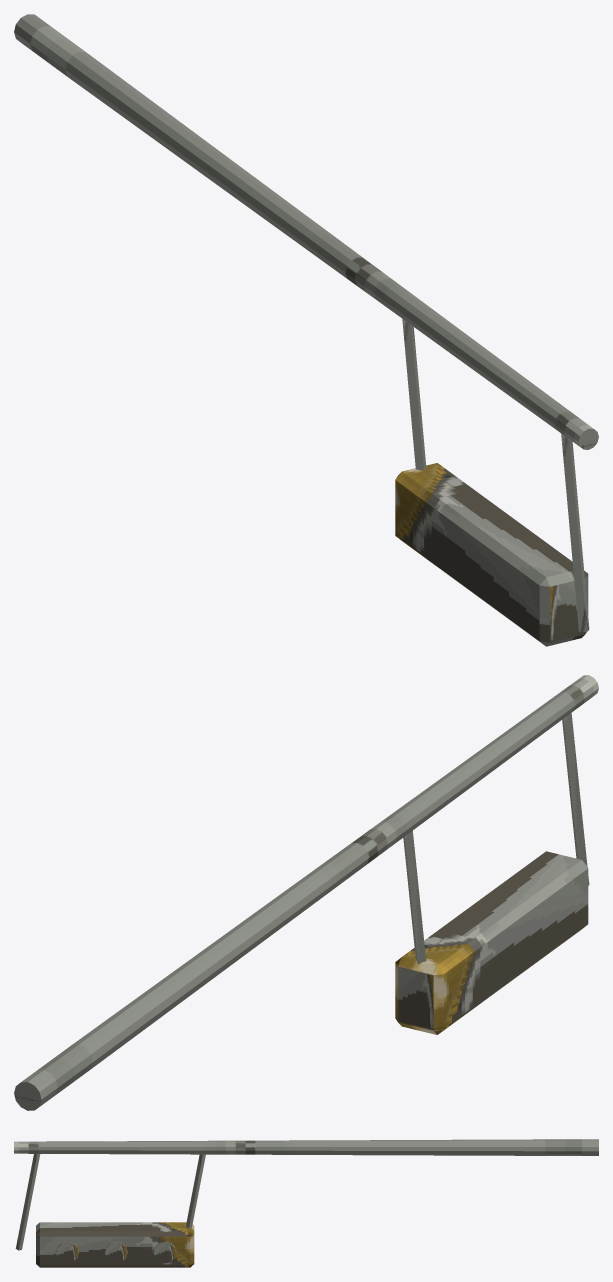
Rendered from pz_street_pole_13.obj.
3 views of the same model, one above another, from view 1: azimuth 30°, elevation 25°; view 2: azimuth 150°, elevation 25°; view 3: azimuth 270°, elevation 25° (orthographic). The views are drawn at different scales.
Parts seen in each view (by area): view 1: pz_street_pole_13_|_tapered_native_street_pole, pz_street_pole_13_|_native_traffic_signal_housing, pz_street_pole_13_|_traffic_light_support_arm.001, pz_street_pole_13_|_traffic_light_support_arm; view 2: pz_street_pole_13_|_tapered_native_street_pole, pz_street_pole_13_|_native_traffic_signal_housing, pz_street_pole_13_|_traffic_light_support_arm.001, pz_street_pole_13_|_traffic_light_support_arm; view 3: pz_street_pole_13_|_tapered_native_street_pole, pz_street_pole_13_|_native_traffic_signal_housing, pz_street_pole_13_|_traffic_light_support_arm.001, pz_street_pole_13_|_traffic_light_support_arm, pz_street_pole_13_|_signal_light_lens.002, pz_street_pole_13_|_signal_light_lens, pz_street_pole_13_|_signal_light_lens.001.
Boxes of the visible parts, bbox=[...] form: pz_street_pole_13_|_tapered_native_street_pole: bbox=[14, 14, 598, 449]; pz_street_pole_13_|_native_traffic_signal_housing: bbox=[395, 463, 588, 646]; pz_street_pole_13_|_traffic_light_support_arm.001: bbox=[561, 433, 589, 631]; pz_street_pole_13_|_traffic_light_support_arm: bbox=[402, 319, 426, 470]; pz_street_pole_13_|_tapered_native_street_pole: bbox=[14, 675, 598, 1110]; pz_street_pole_13_|_native_traffic_signal_housing: bbox=[395, 851, 588, 1034]; pz_street_pole_13_|_traffic_light_support_arm.001: bbox=[562, 713, 589, 885]; pz_street_pole_13_|_traffic_light_support_arm: bbox=[403, 830, 426, 964]; pz_street_pole_13_|_tapered_native_street_pole: bbox=[14, 1139, 598, 1155]; pz_street_pole_13_|_native_traffic_signal_housing: bbox=[36, 1222, 194, 1267]; pz_street_pole_13_|_traffic_light_support_arm.001: bbox=[15, 1154, 40, 1250]; pz_street_pole_13_|_traffic_light_support_arm: bbox=[186, 1154, 205, 1227]; pz_street_pole_13_|_signal_light_lens.002: bbox=[153, 1241, 176, 1263]; pz_street_pole_13_|_signal_light_lens: bbox=[56, 1241, 78, 1263]; pz_street_pole_13_|_signal_light_lens.001: bbox=[105, 1241, 127, 1263].
Bounding box in the file's own units: 0.139 × 0.556 × 2.4.
5 materials, 5 textured.
